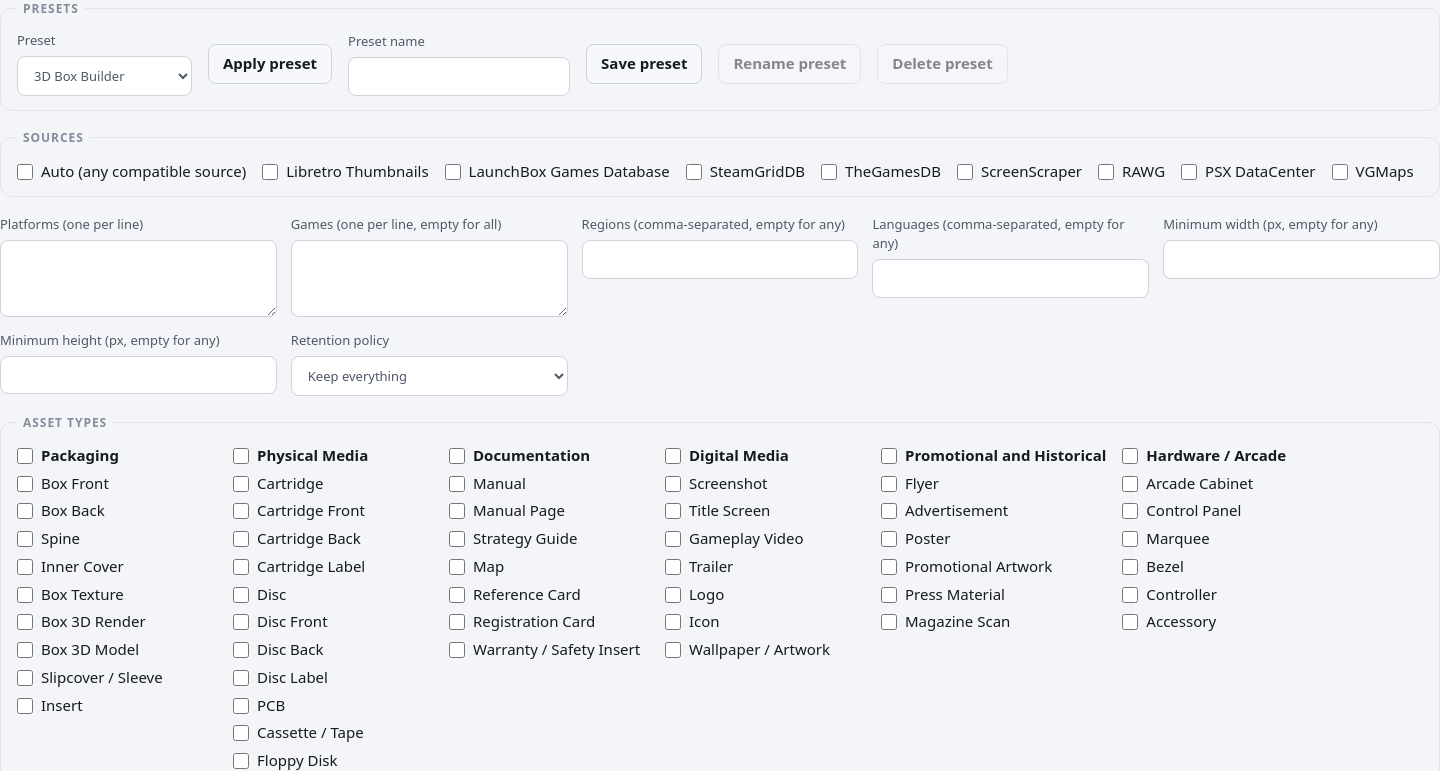
AcquireView › explains which Source acquires each requested type before starting
Click the checkbox labelled "Auto (any compatible source)": click(25, 172) top-left (17, 164), bottom-right (33, 180)
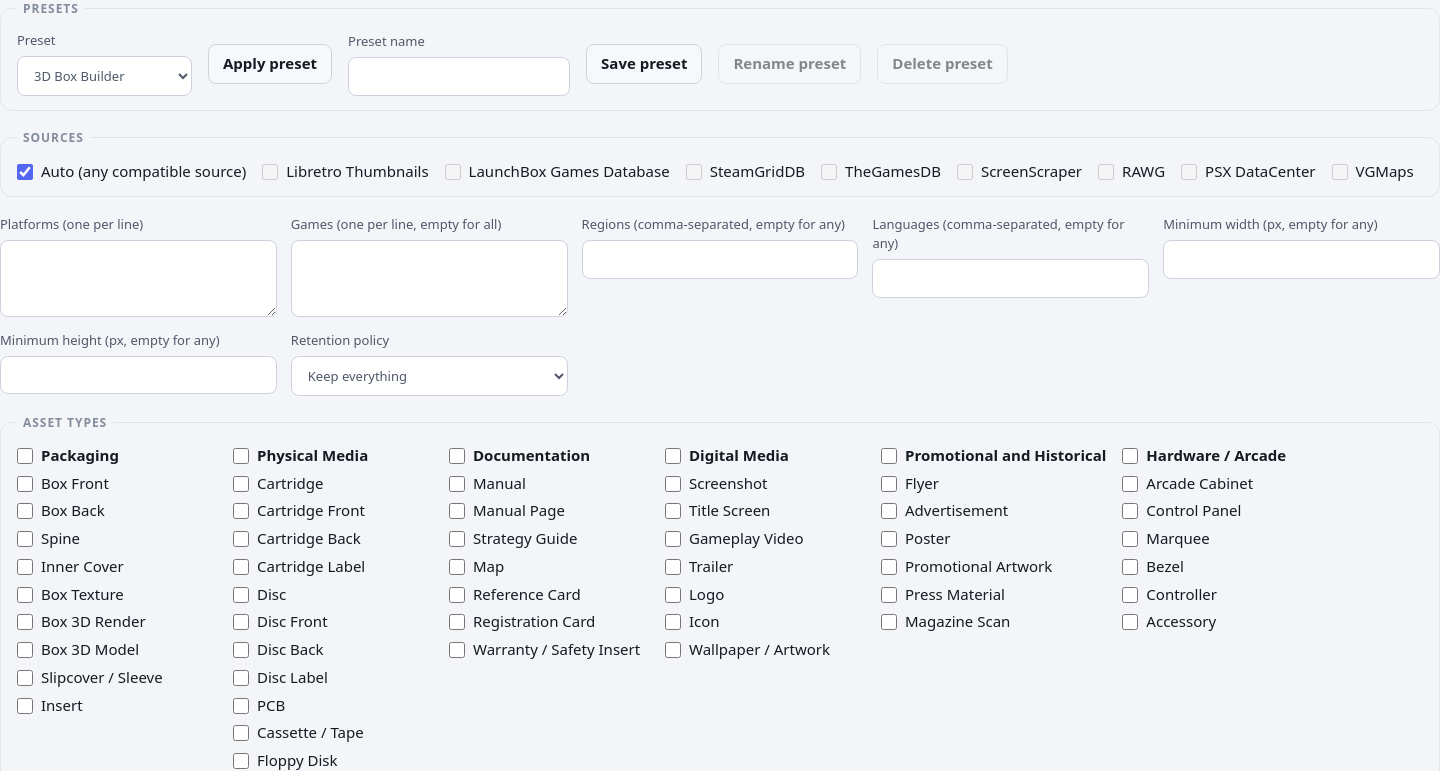
Click the checkbox labelled "Box Front": click(25, 484) top-left (17, 476), bottom-right (33, 492)
(page scrolled)
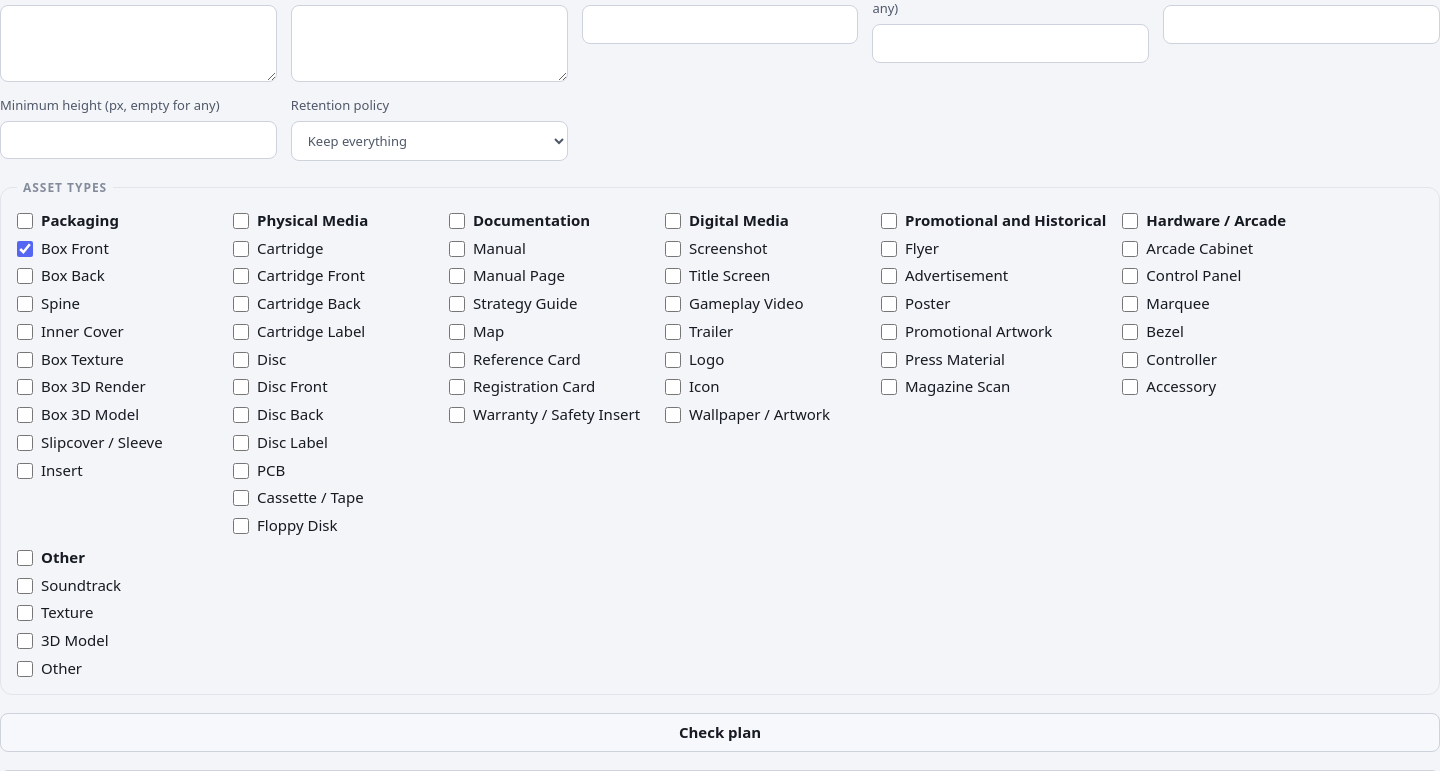
Click the button "Check plan": click(720, 733) top-left (0, 713), bottom-right (1439, 752)
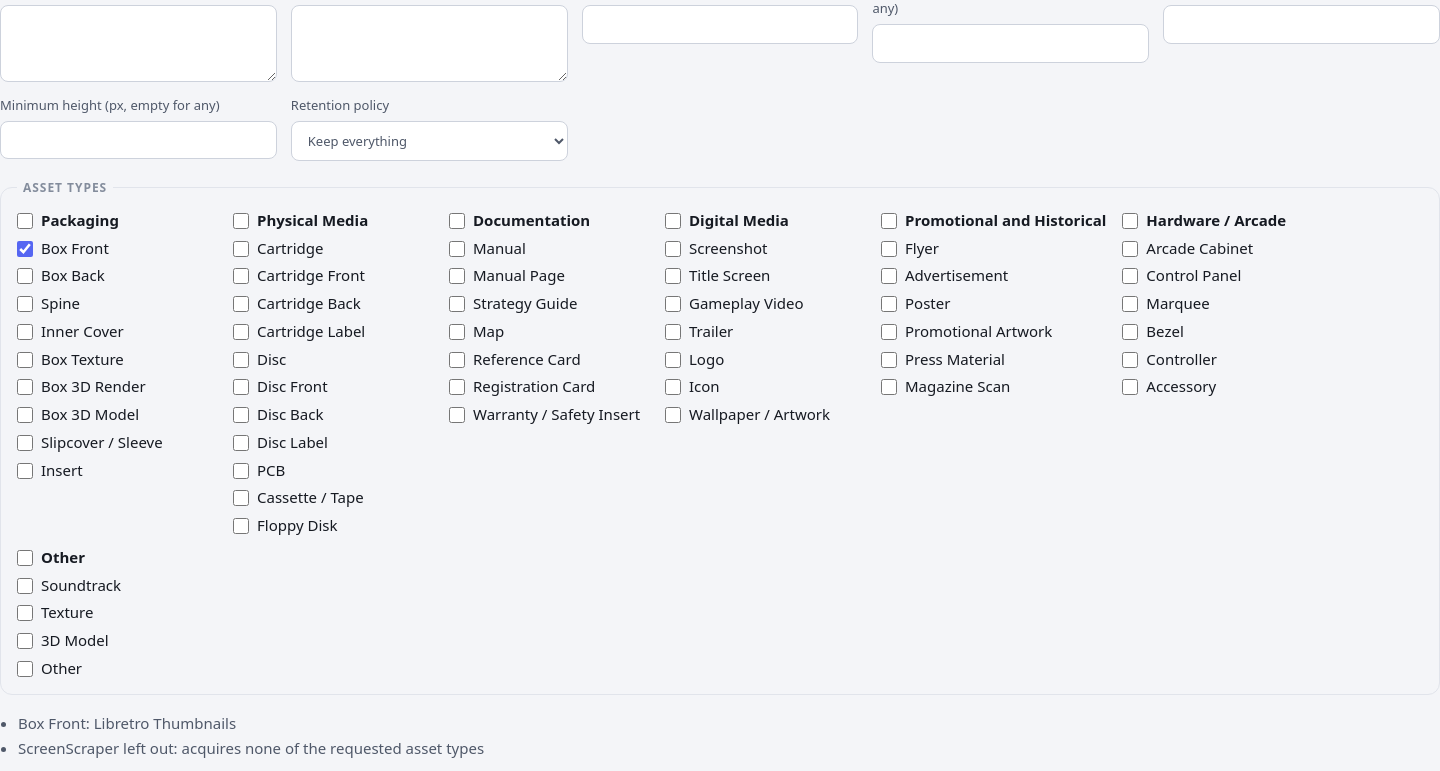
Expected: the list item "Box Front: Libretro Thumbnails" is shown, top-left (18, 713), bottom-right (236, 733)
Expected: the list item "ScreenScraper left out: acquires none of the requested asset types" is shown, top-left (18, 738), bottom-right (484, 758)
